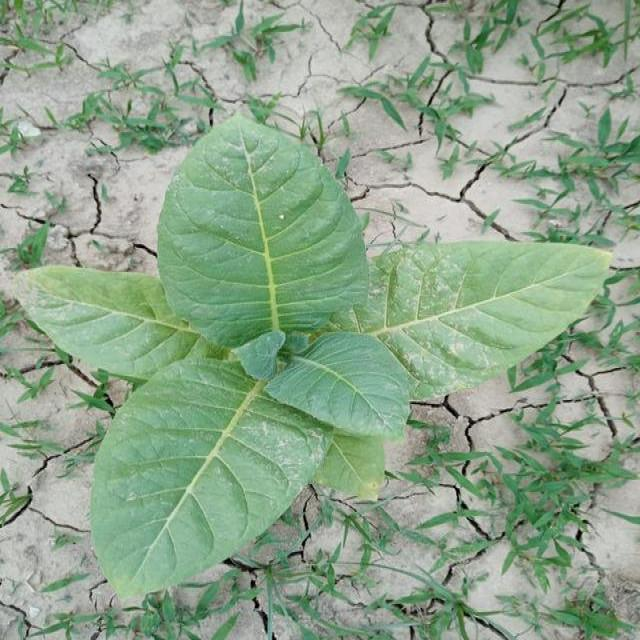crop: (14, 109, 611, 590)
